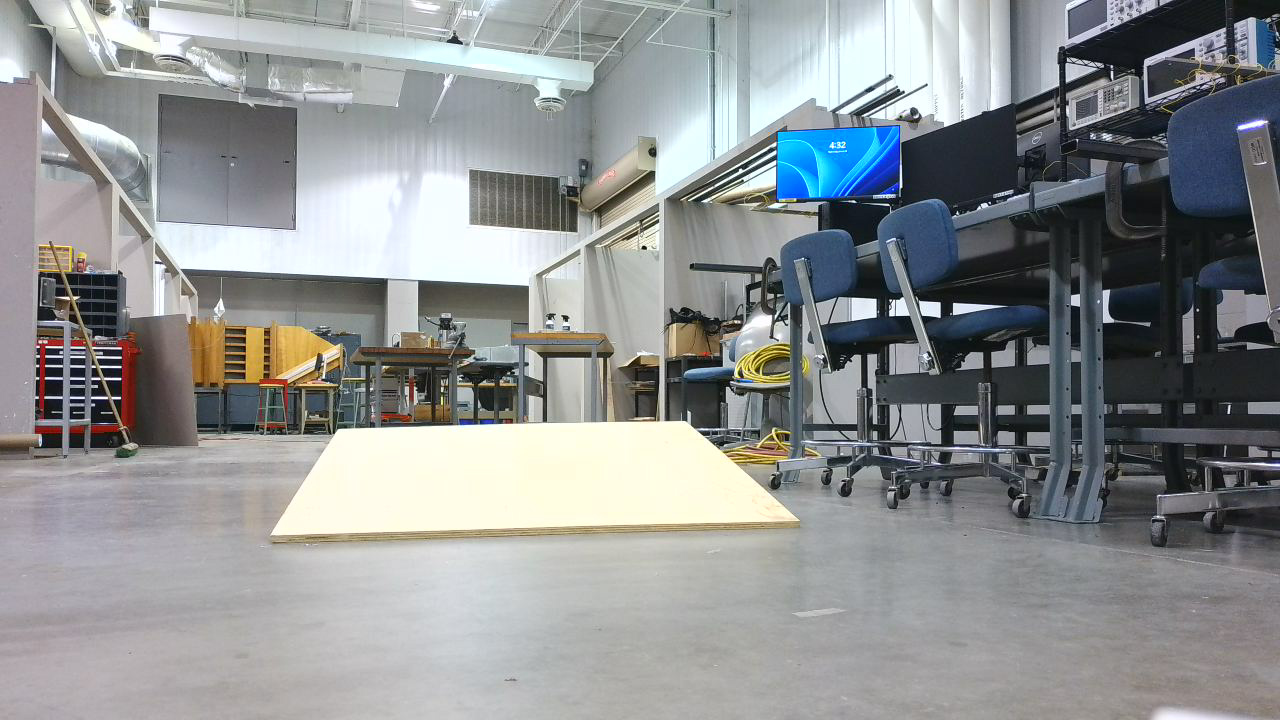ramp: (267, 422, 811, 560)
